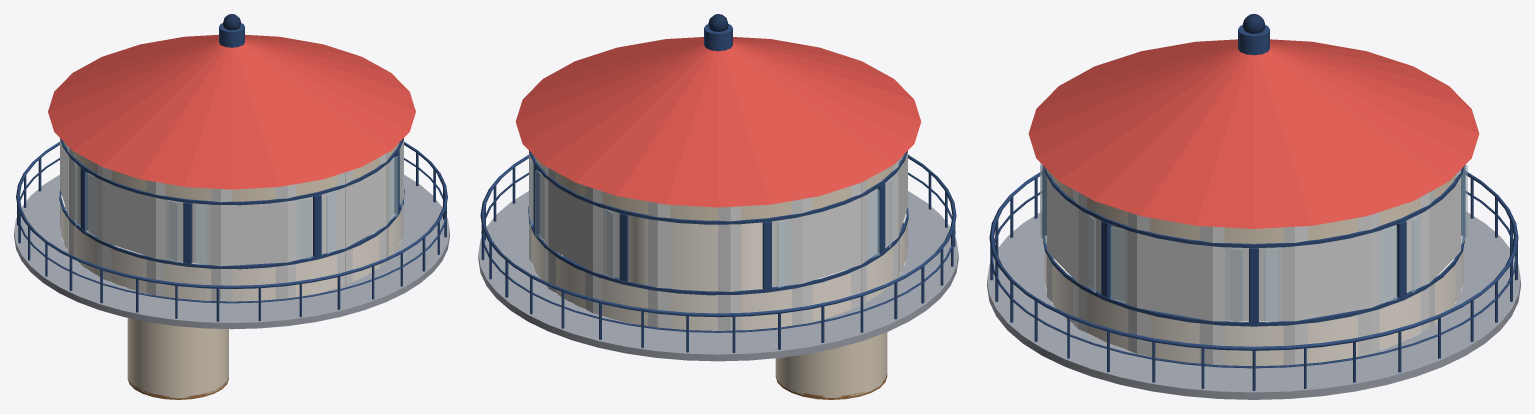
File: alto-do-farol.glb
3 renders of one model, left to right at view 1: azimuth 30°, elevation 25°; view 2: azimuth 150°, elevation 25°; view 3: azimuth 270°, elevation 25°, orthographic. The views are drawn at different scales.
Visible parts, largest first — view 1: sala, escada, vidros, col-parede-sala-12, col-parede-sala-11, col-parede-sala-10, col-parede-sala-13, col-parede-sala-14, col-parede-sala-9, col-parede-sala-15, col-parede-sala-8; view 2: sala, escada, col-parede-sala-8, col-parede-sala-7, vidros, col-parede-sala-4, col-parede-sala-5, col-parede-sala-6, col-parede-sala-9, col-parede-sala-3, col-parede-sala-10; view 3: sala, vidros, col-parede-sala-2, col-parede-sala-16, col-parede-sala-1, col-parede-sala-3, col-parede-sala-15, col-parede-sala-4, col-parede-sala-14.
Part boxes in pixels (<box>): sala: <box>14,14,449,329</box>; escada: <box>127,318,228,399</box>; vidros: <box>74,145,403,264</box>; col-parede-sala-12: <box>221,185,287,303</box>; col-parede-sala-11: <box>156,182,220,303</box>; col-parede-sala-10: <box>102,167,155,295</box>; col-parede-sala-13: <box>287,172,345,298</box>; col-parede-sala-14: <box>345,154,386,285</box>; col-parede-sala-9: <box>69,147,102,276</box>; col-parede-sala-15: <box>386,140,403,262</box>; col-parede-sala-8: <box>60,138,68,253</box>; sala: <box>478,14,958,361</box>; escada: <box>775,309,887,399</box>; col-parede-sala-8: <box>802,183,860,324</box>; col-parede-sala-7: <box>730,199,802,333</box>; vidros: <box>529,158,892,287</box>; col-parede-sala-4: <box>548,168,592,312</box>; col-parede-sala-5: <box>593,188,657,327</box>; col-parede-sala-6: <box>657,203,730,333</box>; col-parede-sala-9: <box>861,161,898,304</box>; col-parede-sala-3: <box>529,153,548,288</box>; col-parede-sala-10: <box>898,151,907,277</box>; sala: <box>987,14,1520,399</box>; vidros: <box>1040,162,1467,322</box>; col-parede-sala-2: <box>1295,215,1370,366</box>; col-parede-sala-16: <box>1137,215,1212,366</box>; col-parede-sala-1: <box>1213,226,1294,367</box>; col-parede-sala-3: <box>1371,192,1429,353</box>; col-parede-sala-15: <box>1078,192,1136,353</box>; col-parede-sala-4: <box>1429,170,1460,328</box>; col-parede-sala-14: <box>1047,170,1078,328</box>.
Bounding box in the file's own units: 11.6 × 9.65 × 11.6.
